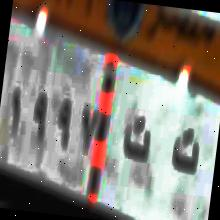1: (3, 77, 26, 144)
7: (72, 94, 102, 158)
9: (48, 90, 75, 162), (25, 87, 50, 147)
taa: (118, 107, 156, 168), (167, 121, 204, 178)
